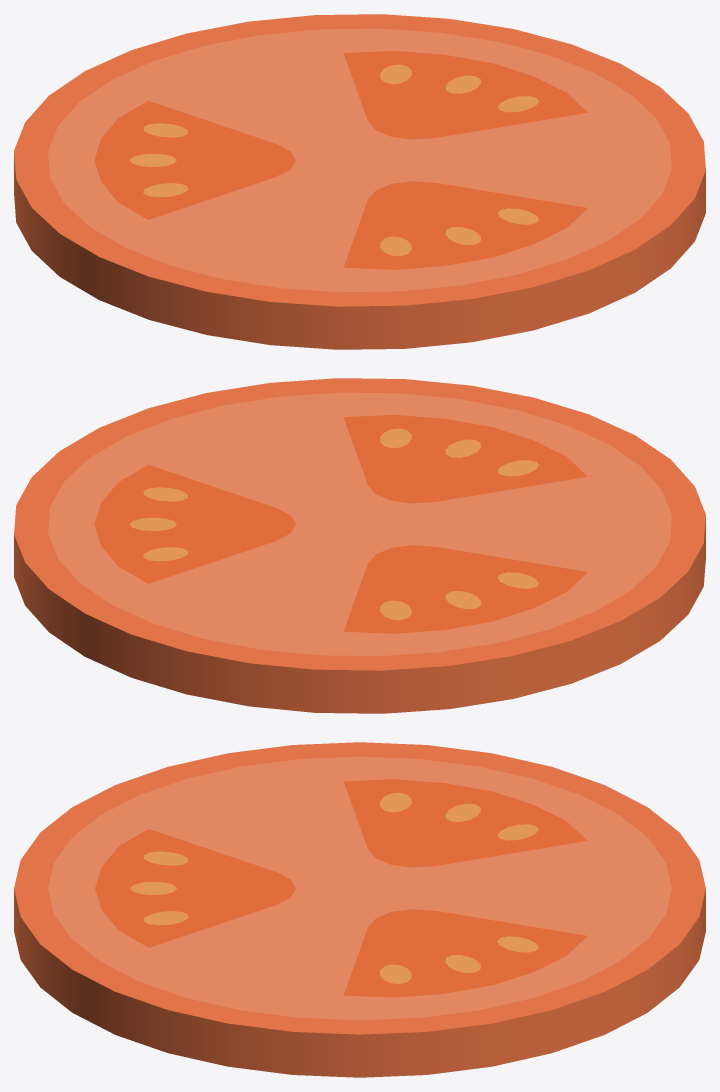
Rendered from Tomato Slice Green.fbx.
3 views of the same model, one above another, from view 1: azimuth 30°, elevation 25°; view 2: azimuth 150°, elevation 25°; view 3: azimuth 270°, elevation 25° (orthographic).
Parts seen in each view (by area): view 1: Tomato Slice Green; view 2: Tomato Slice Green; view 3: Tomato Slice Green.
Boxes of the visible parts, x1=… form: Tomato Slice Green: x1=14, y1=14, x2=705, y2=349; Tomato Slice Green: x1=14, y1=378, x2=705, y2=713; Tomato Slice Green: x1=14, y1=742, x2=705, y2=1077.
Bounding box in the file's own units: 0.3924 × 0.027 × 0.3924.
